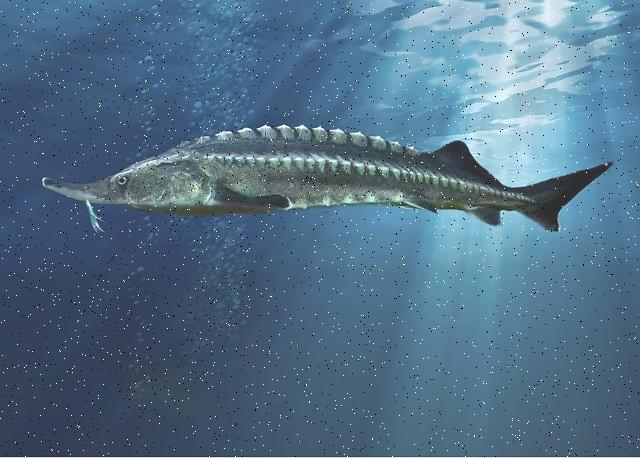Sirip Anal: (466, 198, 514, 240)
Sirip Dada: (213, 178, 299, 232)
Sirip Ekor: (516, 152, 622, 250)
Sirip Perut: (389, 185, 445, 229)
Sirip Punggung: (429, 125, 506, 163)
